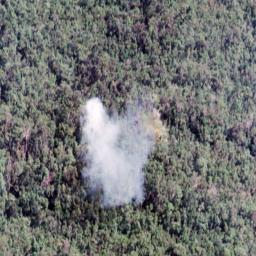Low smoke: (76, 95, 151, 203)
